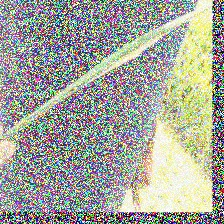Leaf_Blast: (102, 32, 174, 70)
